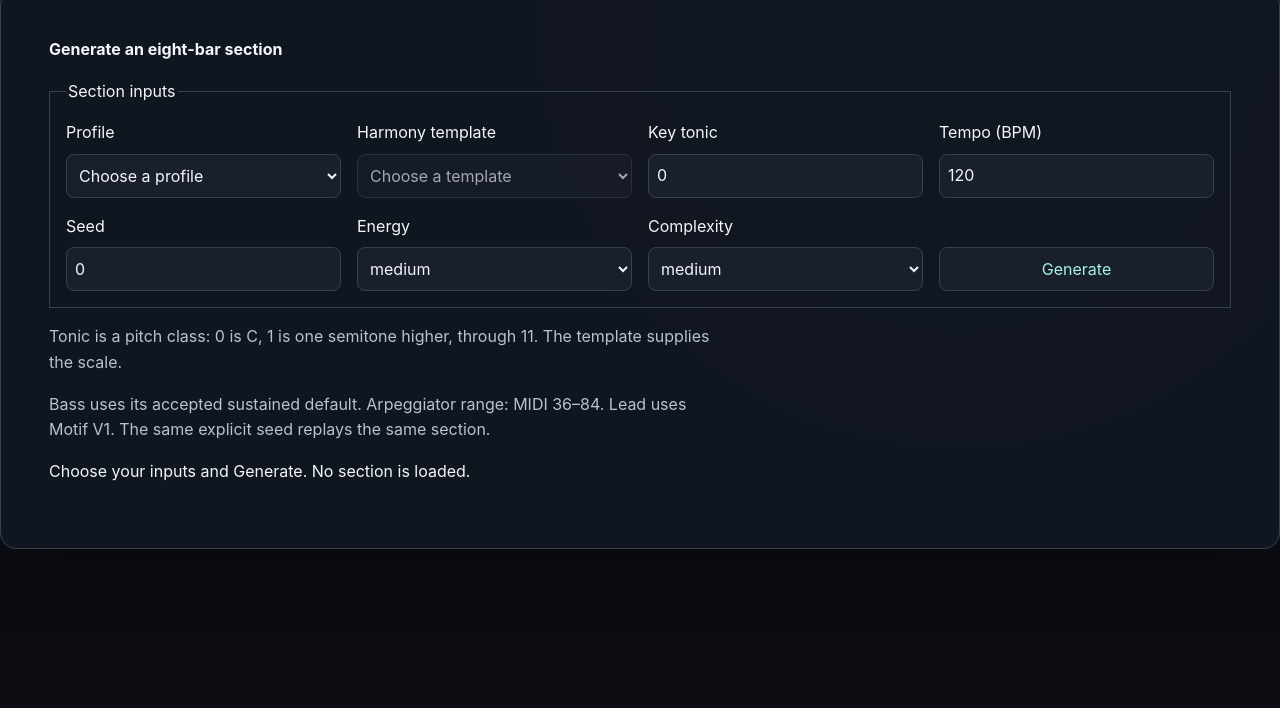
Test: ADR042 retained Arpeggiator browser interaction › fails closed for application-visible or browser-sanitized invalid draft
The width and height of the screenshot is (1280, 708).
Select "dark-synthwave" in the dropdown labelled "Profile" at (204, 176), box 66,154 -> 341,198
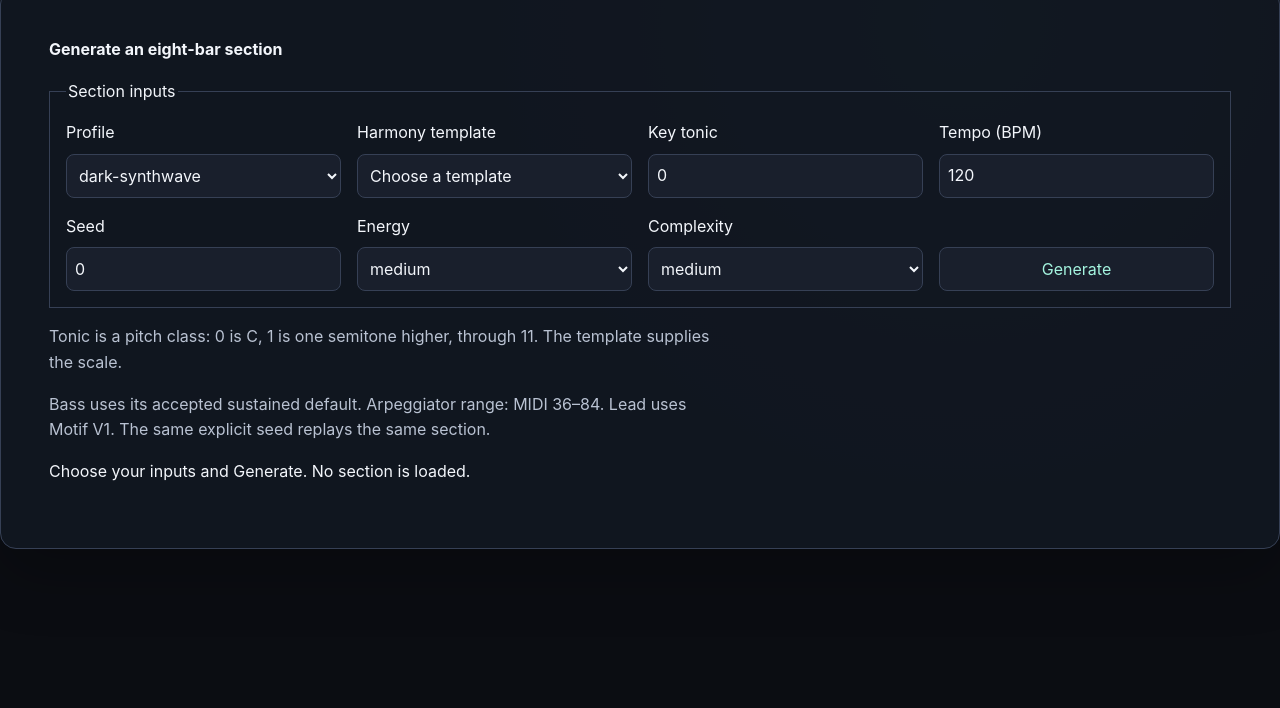
Select "degree-0654-natural-minor-v1 (natural-minor)" in the dropdown labelled "Harmony template" at (494, 176), box 357,154 -> 632,198
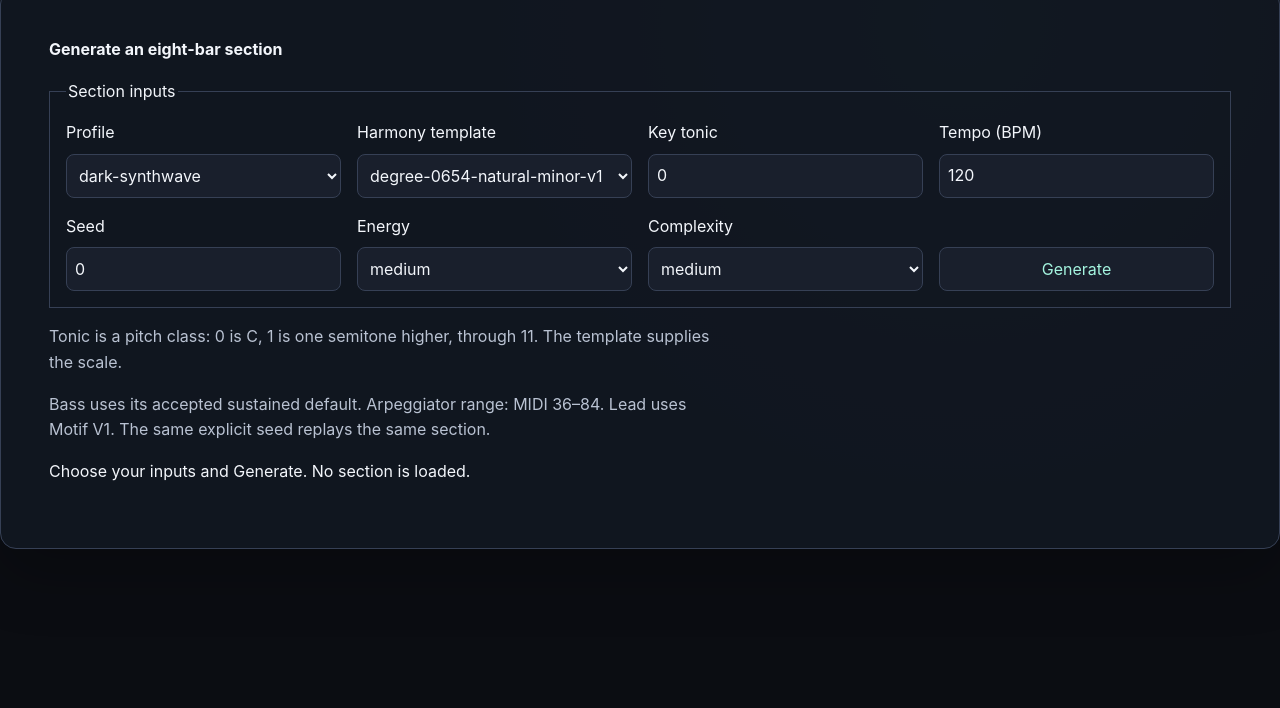
Click the button "Generate".
click(1076, 269)  # box 939,247 -> 1214,291
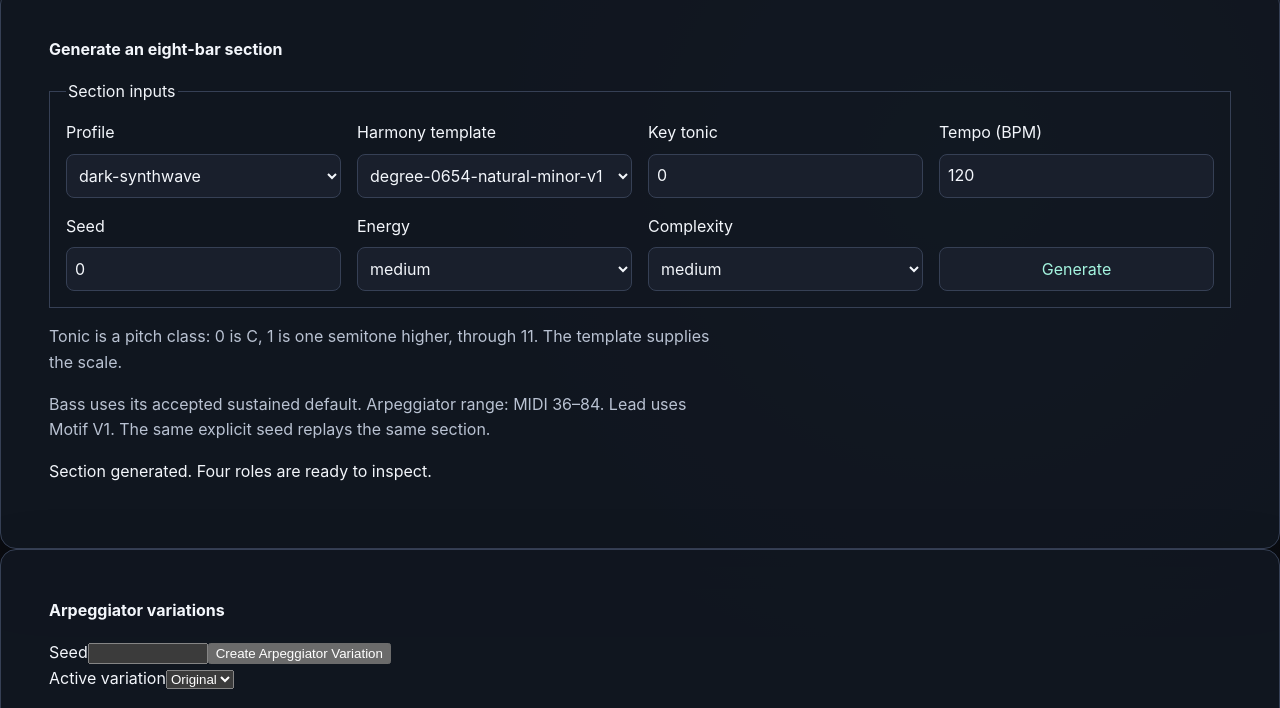
Expected: the heading "Arpeggiator variations" is shown, 49,600 -> 225,620
Expected: the number field labelled "Seed" below "Arpeggiator variations" is enabled, 88,643 -> 208,664
Submit the form labelled "Seed", box 49,642 -> 391,664
(page scrolled)
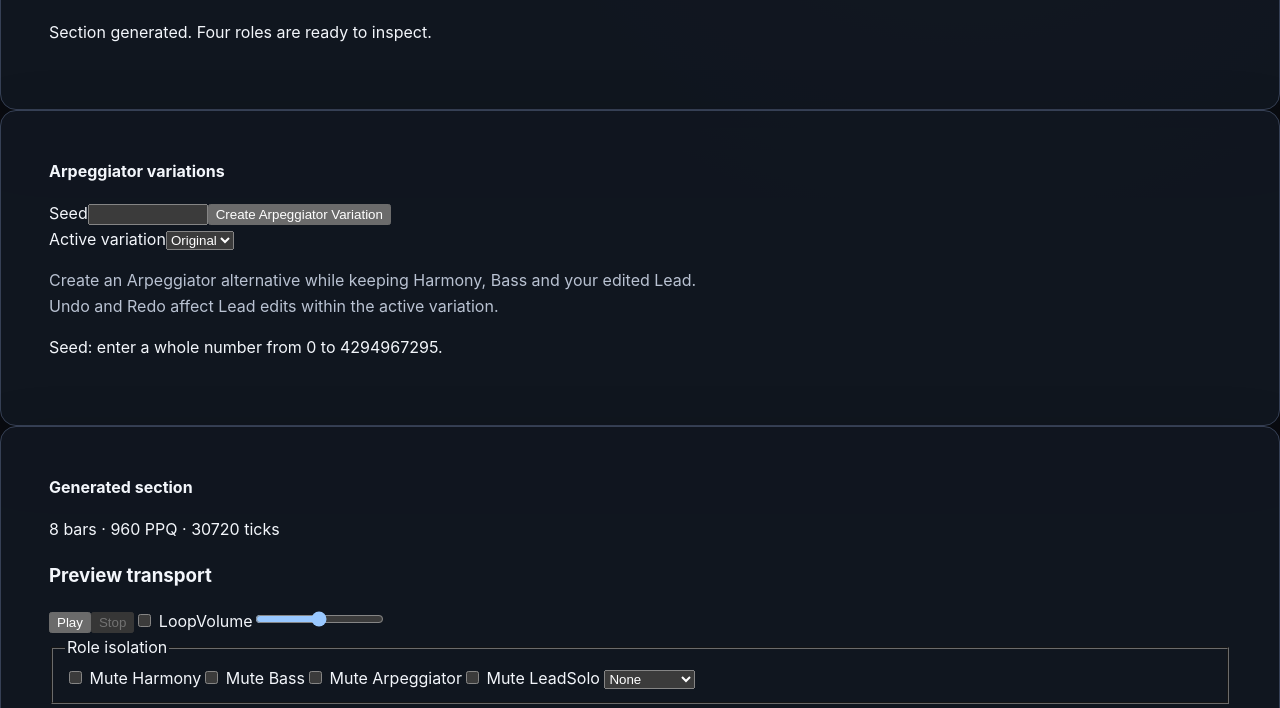
Expected: the dropdown labelled "Active variation" shows "Original", 166,230 -> 234,250
Expected: the text "Seed: enter a whole number from 0 to 4294967295." is shown, 49,337 -> 443,357
